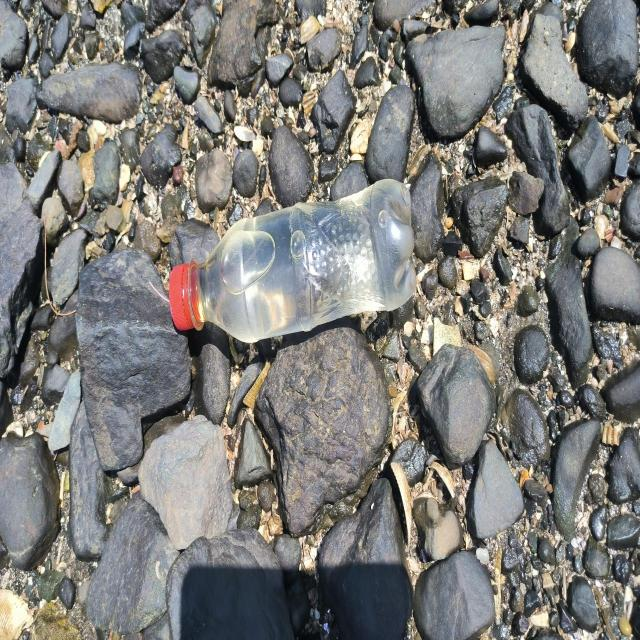plastic_waste: (172, 181, 417, 344)
